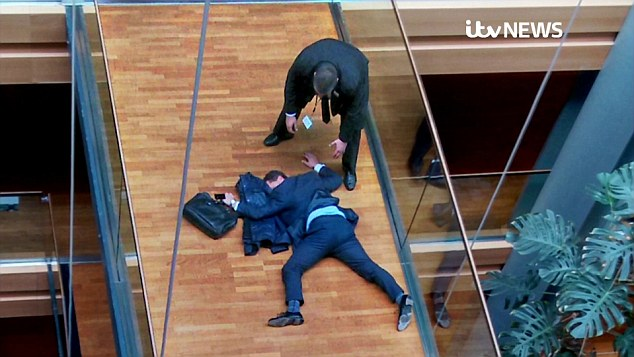collapsed: (178, 151, 414, 337)
